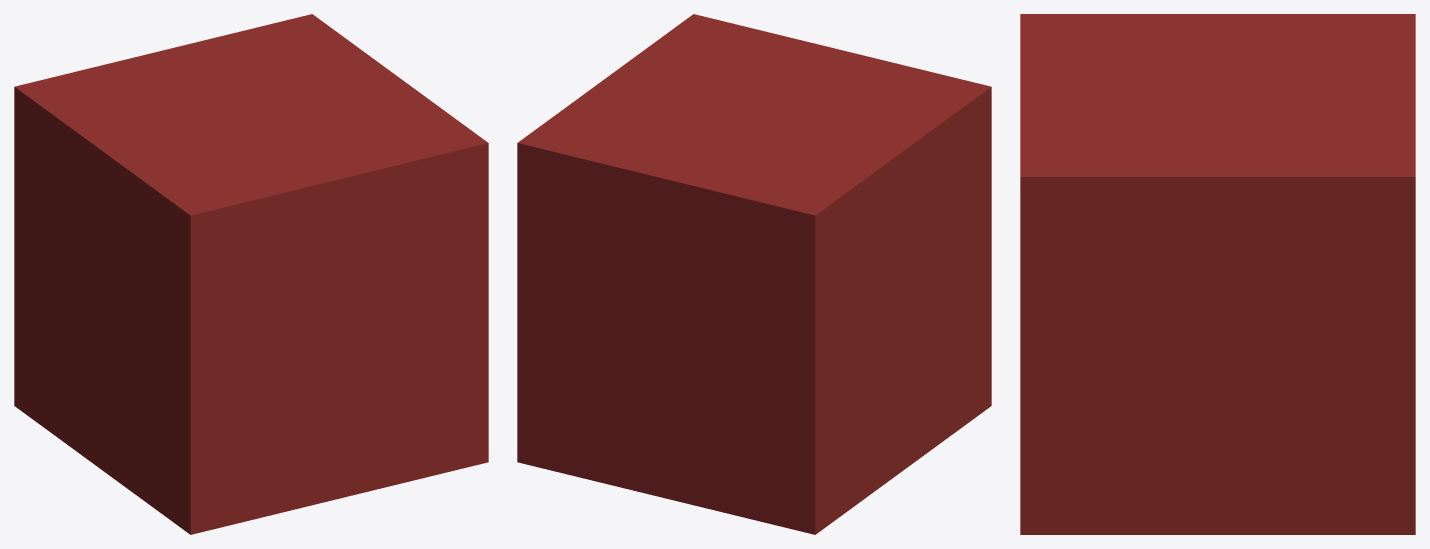
3 renders of one model, left to right at view 1: azimuth 30°, elevation 25°; view 2: azimuth 150°, elevation 25°; view 3: azimuth 270°, elevation 25°, orthographic. The views are drawn at different scales.
Parts seen in each view (by area): view 1: Remeshed_Object; view 2: Remeshed_Object; view 3: Remeshed_Object.
Boxes of the visible parts, x1,y1,x2,y2 form: Remeshed_Object: (14, 14, 488, 534); Remeshed_Object: (517, 14, 991, 534); Remeshed_Object: (1020, 14, 1415, 534).
Size of the model in its own units: 3.1 by 3.17 by 3.17.
